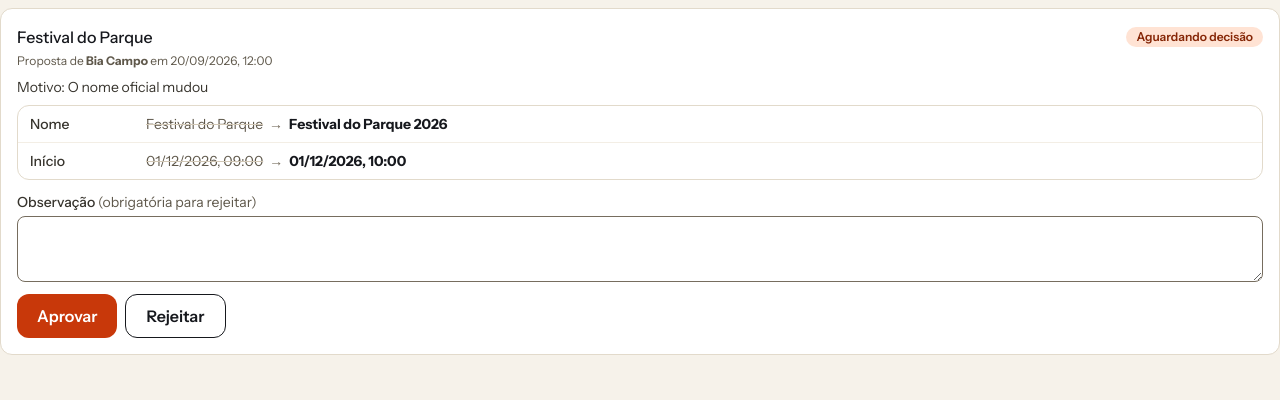
Scenario: ApprovalInbox › aprovar › sem conexão, diz que exige internet (e não fica pendurada)
The width and height of the screenshot is (1280, 400).
Click the button with aria-label "Aprovar a proposta". click: (67, 316)
box: [17,294,118,338]
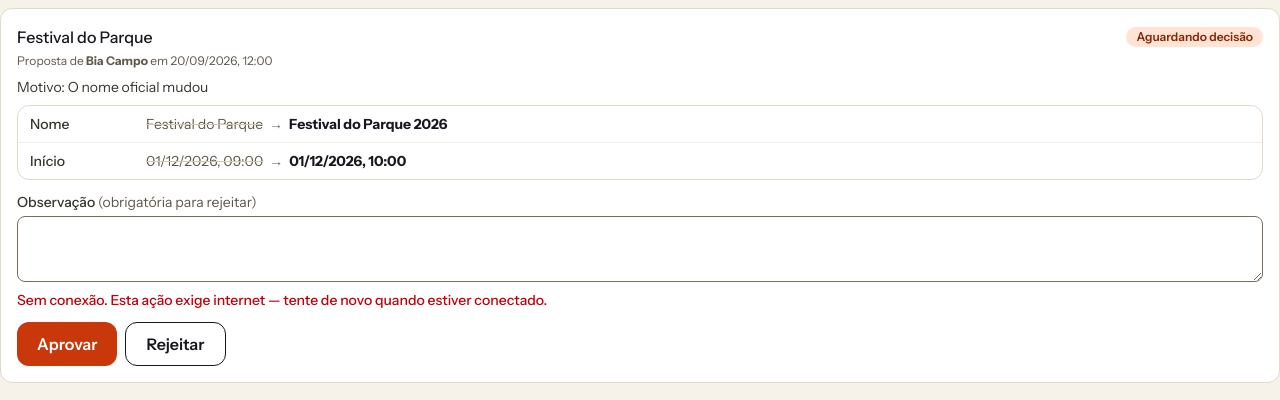
Result: the message with test id "proposal-error" shows "Sem conexão" at [17,291,547,309]
